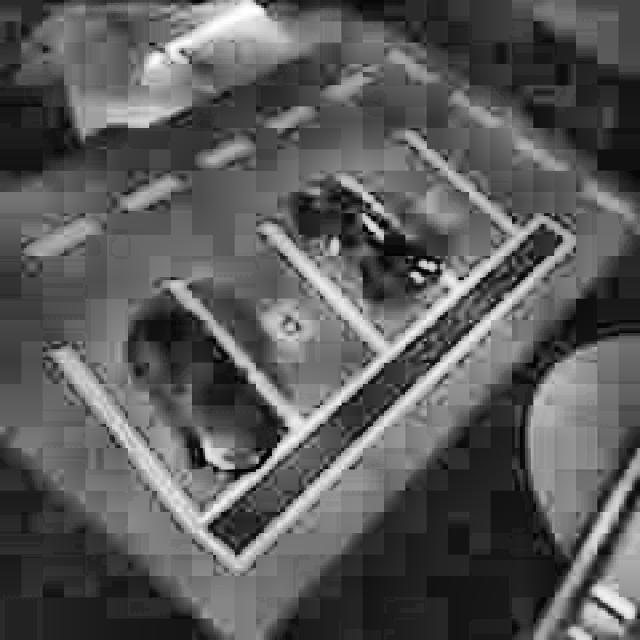car: (123, 301, 284, 499), (282, 163, 449, 328)
